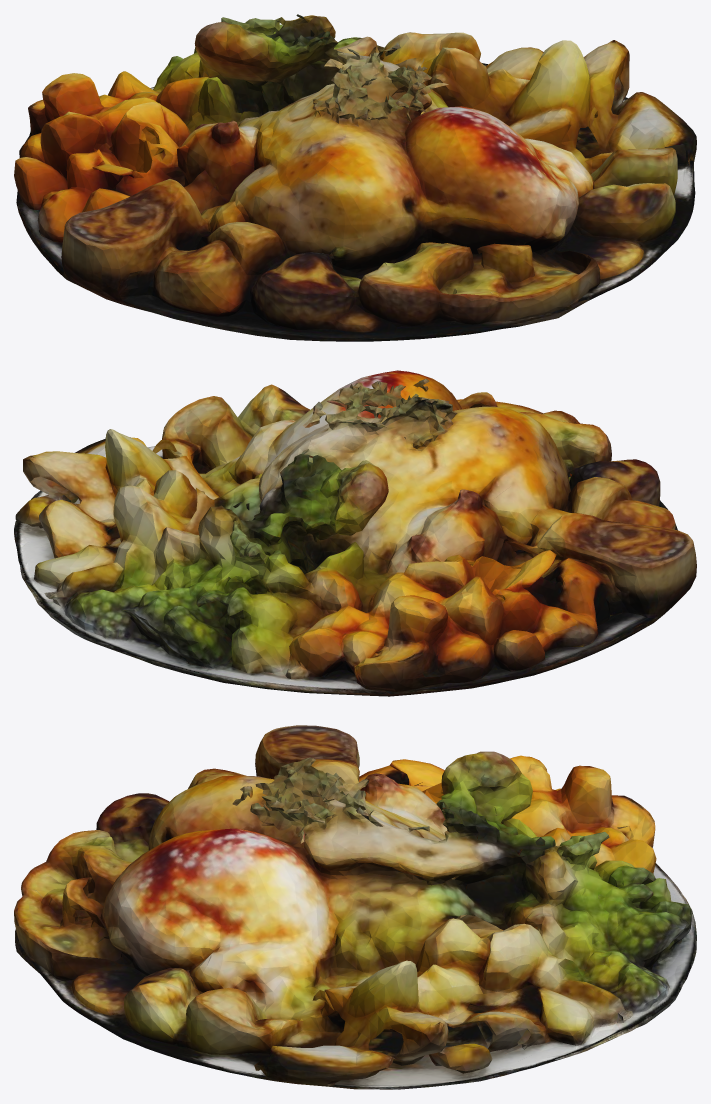
The model's file is pollo-asado.glb.
3 renders of one model, top to bottom at view 1: azimuth 30°, elevation 25°; view 2: azimuth 150°, elevation 25°; view 3: azimuth 270°, elevation 25°, orthographic. The views are drawn at different scales.
Parts seen in each view (by area): view 1: world; view 2: world; view 3: world.
Part boxes in pixels (bbox=[...]): world: bbox=[14, 14, 696, 341]; world: bbox=[14, 370, 696, 696]; world: bbox=[14, 725, 696, 1089].
Size of the model in its own units: 0.27 by 0.0662 by 0.2547.
Materials: 1 (1 with a texture image).
